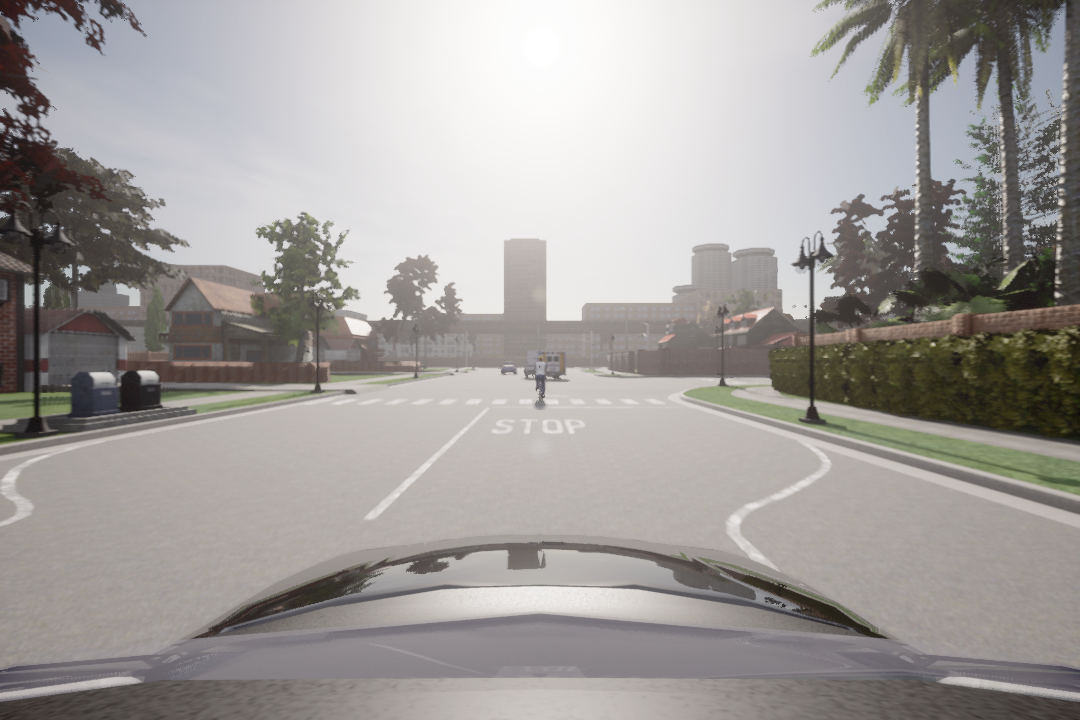walkside: (303, 391, 678, 411)
